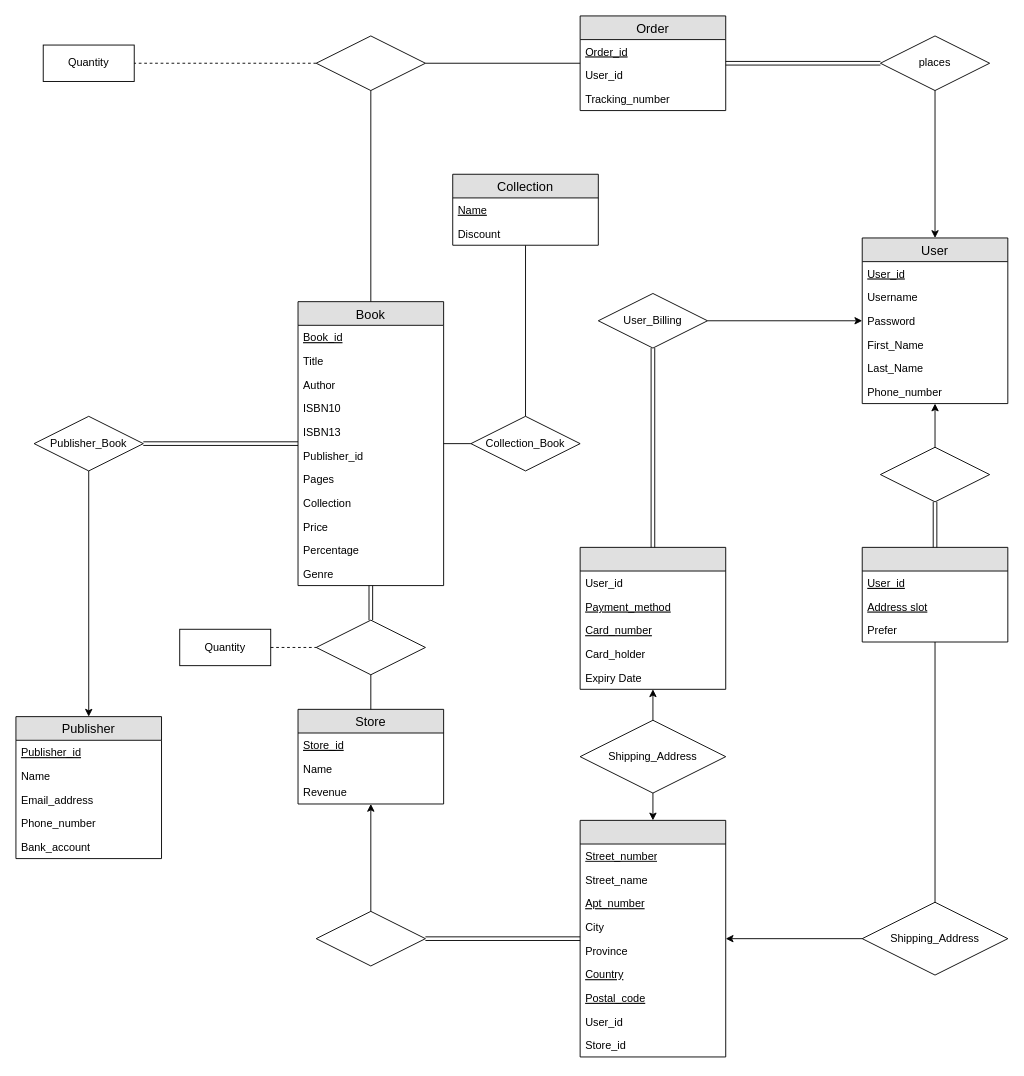
Some shapes in this 1024 by 1076 pixel diagram are drawn without their labels. Each missing label, with the box of its shape:
Address: (579, 819, 726, 1057)
Billing Information: (579, 546, 726, 689)
Order_Book: (315, 35, 425, 91)
Shipping Information: (861, 546, 1008, 642)
Store_Address: (315, 910, 425, 966)
Stores: (315, 619, 425, 675)
User_Shipping: (880, 446, 990, 502)
